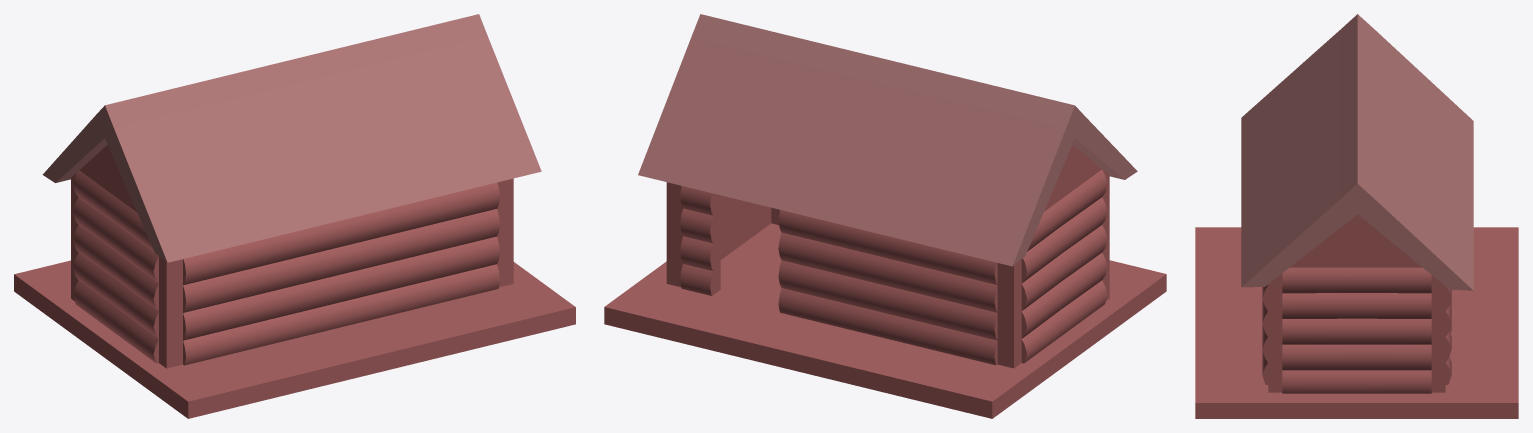
The model's file is Cabaña 2.fbx.
3 renders of one model, left to right at view 1: azimuth 30°, elevation 25°; view 2: azimuth 150°, elevation 25°; view 3: azimuth 270°, elevation 25°, orthographic. The views are drawn at different scales.
Parts seen in each view (by area): view 1: pCube5, pCube2; view 2: pCube5, pCube2; view 3: pCube5, pCube2.
Boxes of the visible parts, x1,y1,x2,y2 form: pCube5: (14, 144, 575, 418); pCube2: (42, 14, 541, 262); pCube5: (604, 144, 1166, 418); pCube2: (638, 14, 1137, 266); pCube5: (1195, 214, 1518, 418); pCube2: (1241, 14, 1473, 290).
Size of the model in its own units: 23.45 by 14.38 by 18.24.
